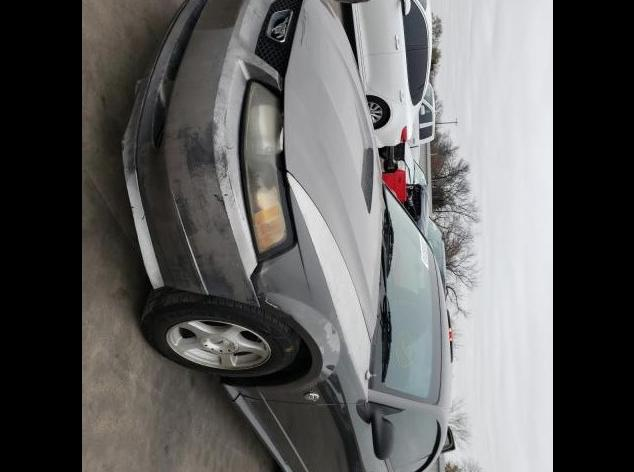Broken part: (241, 258, 265, 307)
Dent: (250, 260, 279, 310)
Flaking: (166, 0, 278, 139), (239, 0, 275, 46), (175, 199, 198, 237), (320, 320, 340, 354), (319, 347, 324, 354)
Scratch: (176, 111, 233, 191), (161, 255, 235, 300), (197, 193, 234, 240), (240, 276, 258, 305), (299, 7, 307, 46), (263, 300, 278, 309)
